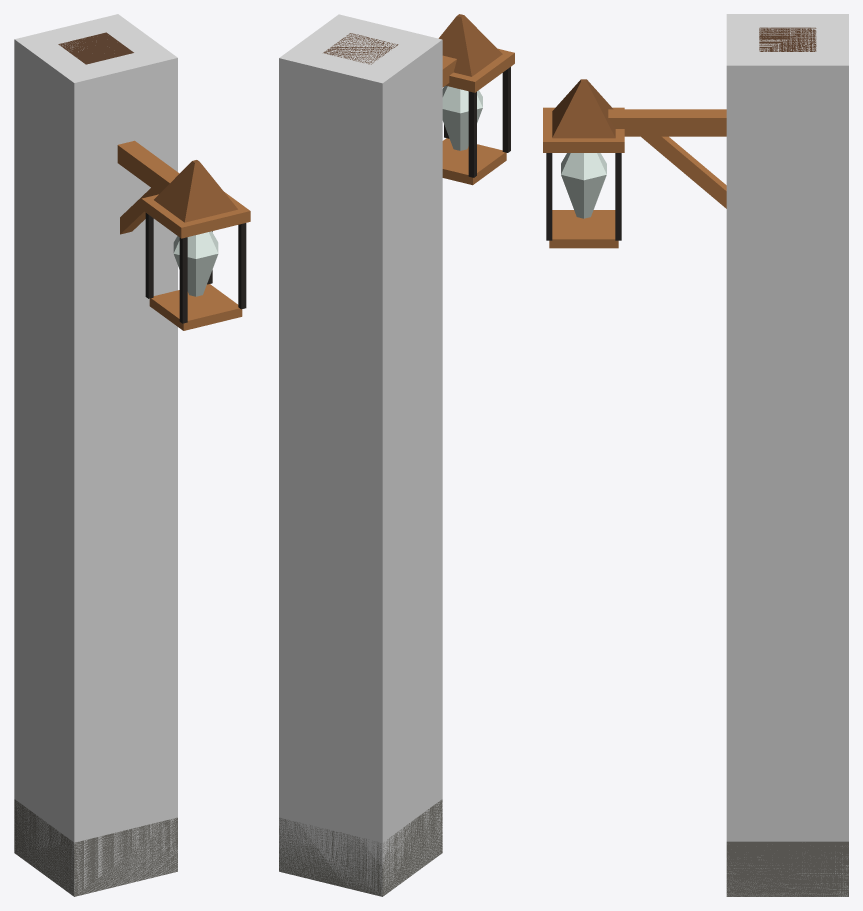
Rendered from camp_lamp_post.glb.
3 views of the same model, side by side, from view 1: azimuth 30°, elevation 25°; view 2: azimuth 150°, elevation 25°; view 3: azimuth 270°, elevation 25° (orthographic). The views are drawn at different scales.
Parts seen in each view (by area): view 1: camp_lamp_post-col-col, Body; view 2: camp_lamp_post-col-col, Body; view 3: camp_lamp_post-col-col, Body.
Part boxes in pixels (box(x1,y1,x2,y2)): camp_lamp_post-col-col: box(14, 14, 177, 896); Body: box(14, 32, 250, 896); camp_lamp_post-col-col: box(279, 14, 442, 896); Body: box(279, 14, 514, 896); camp_lamp_post-col-col: box(726, 14, 848, 896); Body: box(543, 27, 848, 896).
Size of the model in its own units: 0.6 by 4.5 by 1.5.
